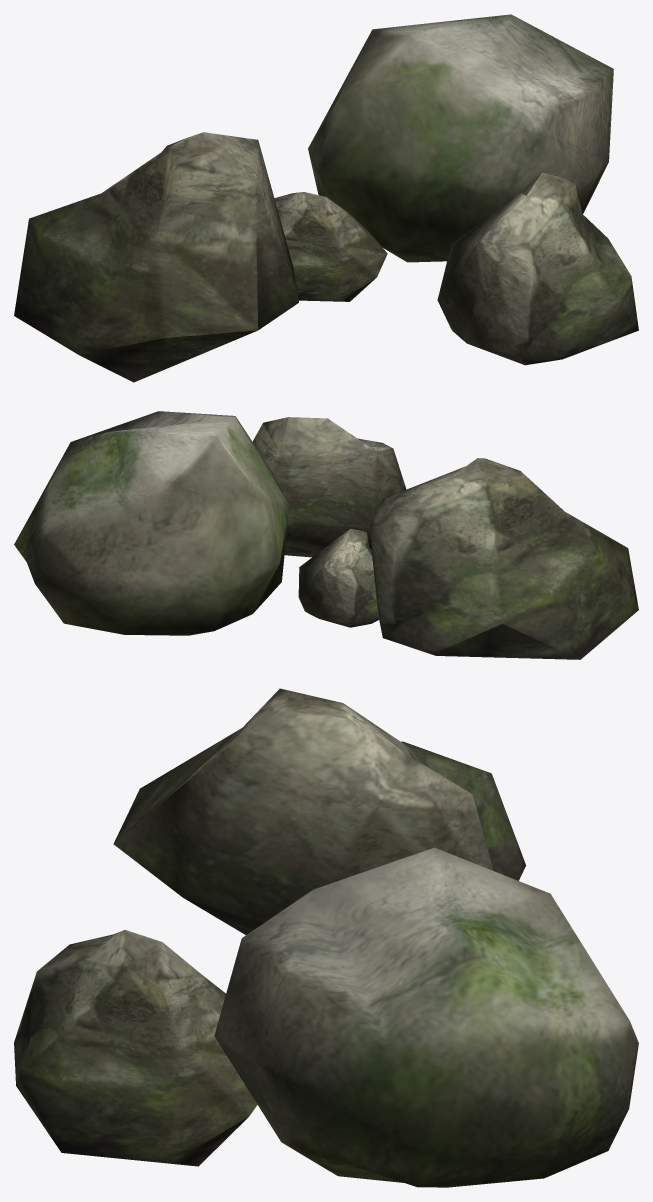
Rendered from rock_group_5_floor.fbx.
The picture shows the model from 3 angles, top to bottom: view 1: azimuth 30°, elevation 25°; view 2: azimuth 150°, elevation 25°; view 3: azimuth 270°, elevation 25°; orthographic projection. The views are drawn at different scales.
Visible parts, largest first — view 1: rock_2, rock_1, rock_3, rock_4; view 2: rock_2, rock_1, rock_3, rock_4; view 3: rock_2, rock_1, rock_3.
Boxes of the visible parts, <box> form: rock_2: <box>308,14,613,262</box>; rock_1: <box>14,132,298,382</box>; rock_3: <box>437,172,638,365</box>; rock_4: <box>274,192,387,301</box>; rock_2: <box>14,411,289,635</box>; rock_1: <box>369,458,638,659</box>; rock_3: <box>252,417,406,557</box>; rock_4: <box>298,529,378,627</box>; rock_2: <box>214,847,638,1187</box>; rock_1: <box>113,688,525,934</box>; rock_3: <box>14,930,257,1166</box>.
Size of the model in its own units: 993 by 359 by 723.
1 material, 1 textured.
